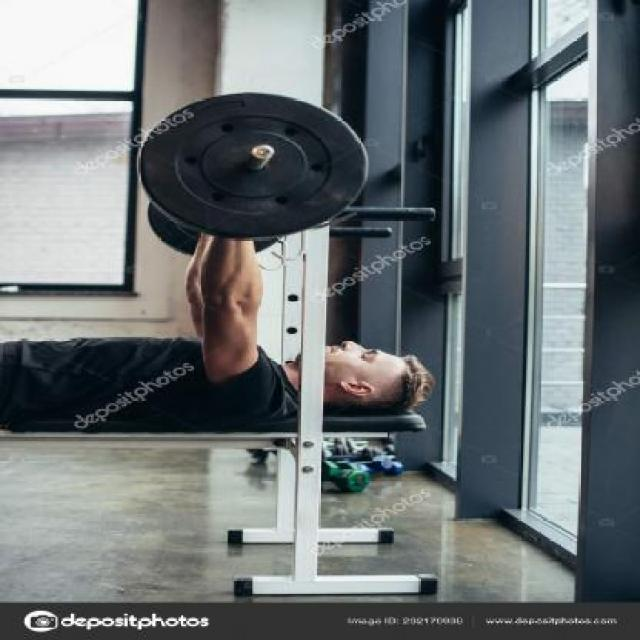Barbell: (248, 142, 282, 162)
